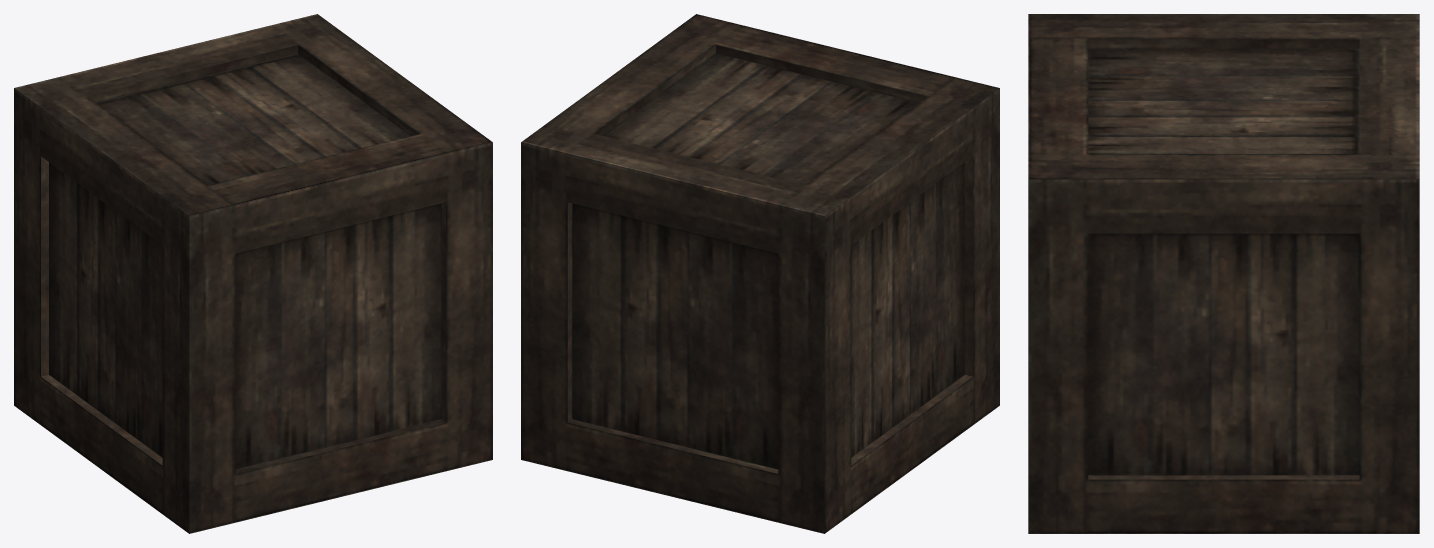
File: wooden_crate_6.obj
3 views of the same model, side by side, from view 1: azimuth 30°, elevation 25°; view 2: azimuth 150°, elevation 25°; view 3: azimuth 270°, elevation 25° (orthographic). The views are drawn at different scales.
Parts seen in each view (by area): view 1: wooden_crate_6; view 2: wooden_crate_6; view 3: wooden_crate_6.
Part boxes in pixels (x1,y1,x2,y2): wooden_crate_6: (14,14,492,533); wooden_crate_6: (521,14,999,533); wooden_crate_6: (1028,14,1419,533).
Bounding box in the file's own units: 0.75 × 0.75 × 0.75.
